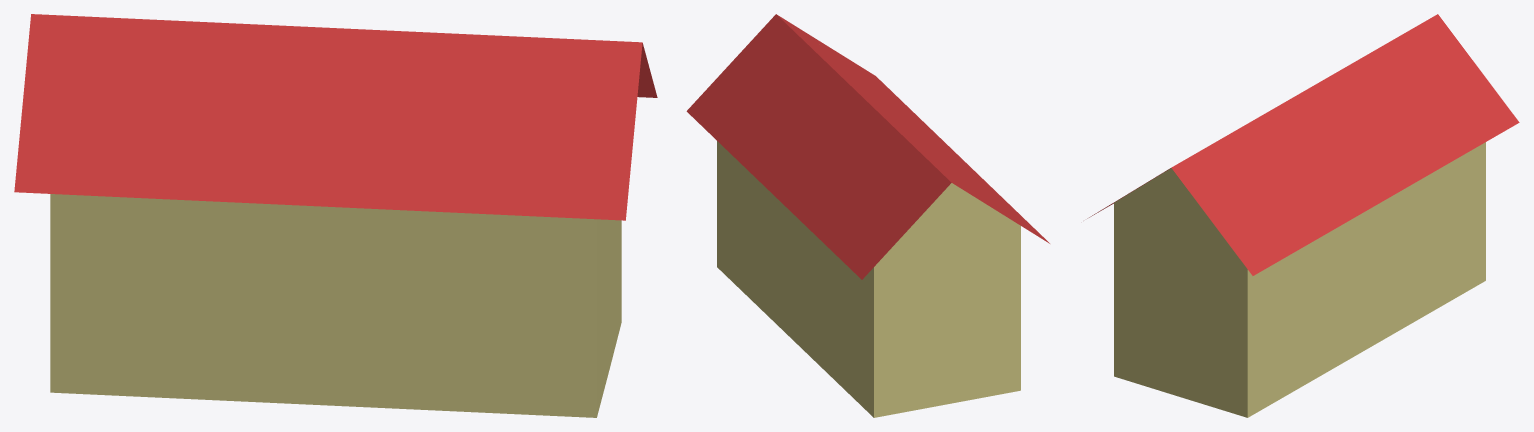
3 renders of one model, left to right at view 1: azimuth 30°, elevation 25°; view 2: azimuth 150°, elevation 25°; view 3: azimuth 270°, elevation 25°, orthographic. The views are drawn at different scales.
Size of the model in its own units: 15.33 by 13.74 by 8.25.
